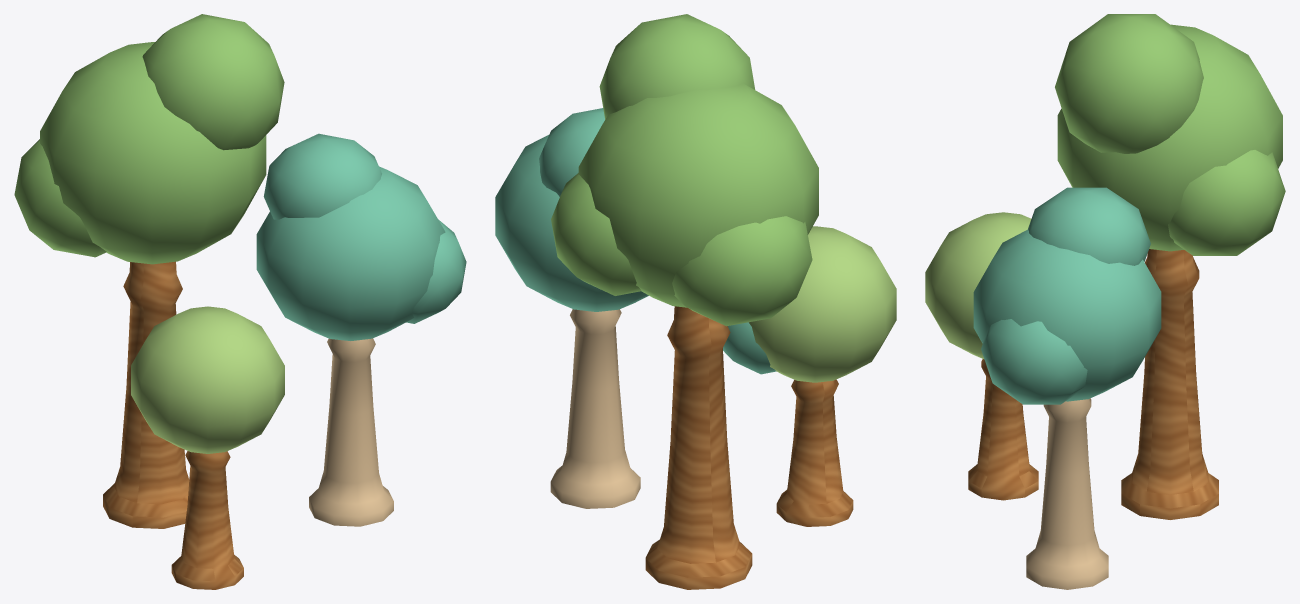
Rendered from decor_bosquet.glb.
3 views of the same model, side by side, from view 1: azimuth 30°, elevation 25°; view 2: azimuth 150°, elevation 25°; view 3: azimuth 270°, elevation 25° (orthographic). The views are drawn at different scales.
Visible parts, largest first — view 1: decor_bosquet; view 2: decor_bosquet; view 3: decor_bosquet.
Boxes of the visible parts, bbox=[...] form: decor_bosquet: bbox=[14, 14, 466, 589]; decor_bosquet: bbox=[495, 14, 896, 589]; decor_bosquet: bbox=[925, 14, 1285, 589].
Bounding box in the file's own units: 1.29 × 1.72 × 1.12.
5 materials, 1 textured.
